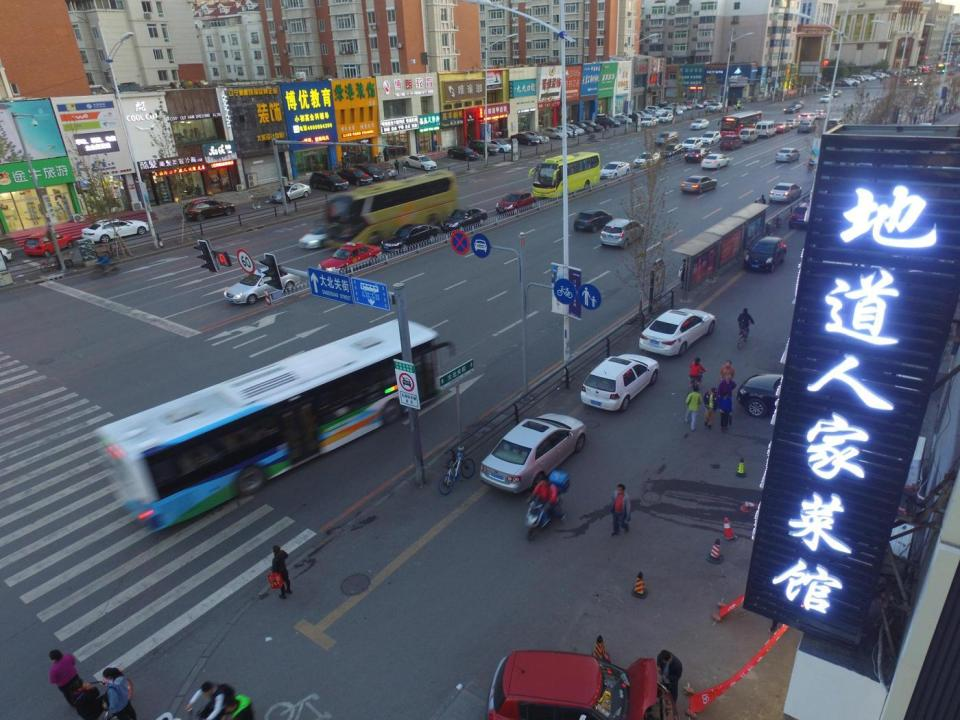bus: (91, 317, 454, 529), (322, 170, 462, 247), (529, 152, 600, 198), (717, 109, 764, 138)
car: (484, 644, 680, 720), (741, 365, 921, 437), (478, 413, 588, 494), (580, 352, 660, 412), (636, 308, 717, 358), (223, 264, 302, 304), (317, 241, 383, 275), (81, 218, 149, 243), (742, 235, 786, 273), (381, 222, 438, 251), (298, 223, 351, 249), (600, 218, 645, 248), (440, 204, 488, 232), (23, 230, 74, 256), (183, 197, 236, 221), (496, 189, 537, 214), (573, 206, 613, 231), (269, 182, 311, 204), (309, 170, 349, 193), (789, 200, 816, 228), (768, 181, 802, 203), (337, 168, 373, 187), (679, 175, 717, 193), (631, 151, 666, 170), (599, 160, 632, 180), (403, 154, 438, 170), (353, 164, 384, 181), (446, 145, 480, 160), (700, 154, 730, 170), (660, 142, 686, 160), (468, 140, 498, 155), (520, 131, 550, 146), (684, 148, 712, 164), (775, 147, 801, 164), (911, 90, 933, 110), (485, 138, 513, 153), (510, 132, 540, 146), (721, 134, 744, 151), (699, 130, 722, 146), (656, 131, 680, 146), (541, 127, 568, 140), (570, 121, 594, 134), (553, 125, 578, 137), (562, 123, 585, 136), (580, 120, 604, 132), (826, 118, 844, 134), (798, 111, 817, 126), (797, 121, 818, 134), (596, 117, 620, 128), (623, 109, 646, 120), (704, 102, 725, 113), (689, 119, 710, 130), (611, 114, 633, 124), (646, 105, 666, 116), (702, 98, 724, 108), (640, 116, 659, 127), (639, 110, 658, 121), (664, 105, 683, 116), (660, 106, 683, 115), (774, 122, 791, 134), (684, 100, 704, 110), (673, 100, 691, 111), (784, 104, 803, 114), (670, 101, 687, 112), (634, 109, 652, 119), (645, 108, 663, 118), (658, 112, 674, 123), (658, 103, 674, 114), (785, 118, 801, 129), (808, 84, 829, 92), (678, 101, 696, 109), (813, 109, 827, 119), (790, 101, 805, 110), (834, 79, 852, 86), (841, 78, 856, 86), (857, 74, 872, 82), (846, 76, 860, 84), (820, 94, 834, 102), (832, 89, 842, 98), (863, 74, 877, 80), (850, 77, 862, 83), (863, 74, 874, 80), (870, 74, 881, 80)
van: (755, 120, 777, 138), (740, 129, 760, 143), (850, 76, 864, 82), (871, 72, 883, 79)
